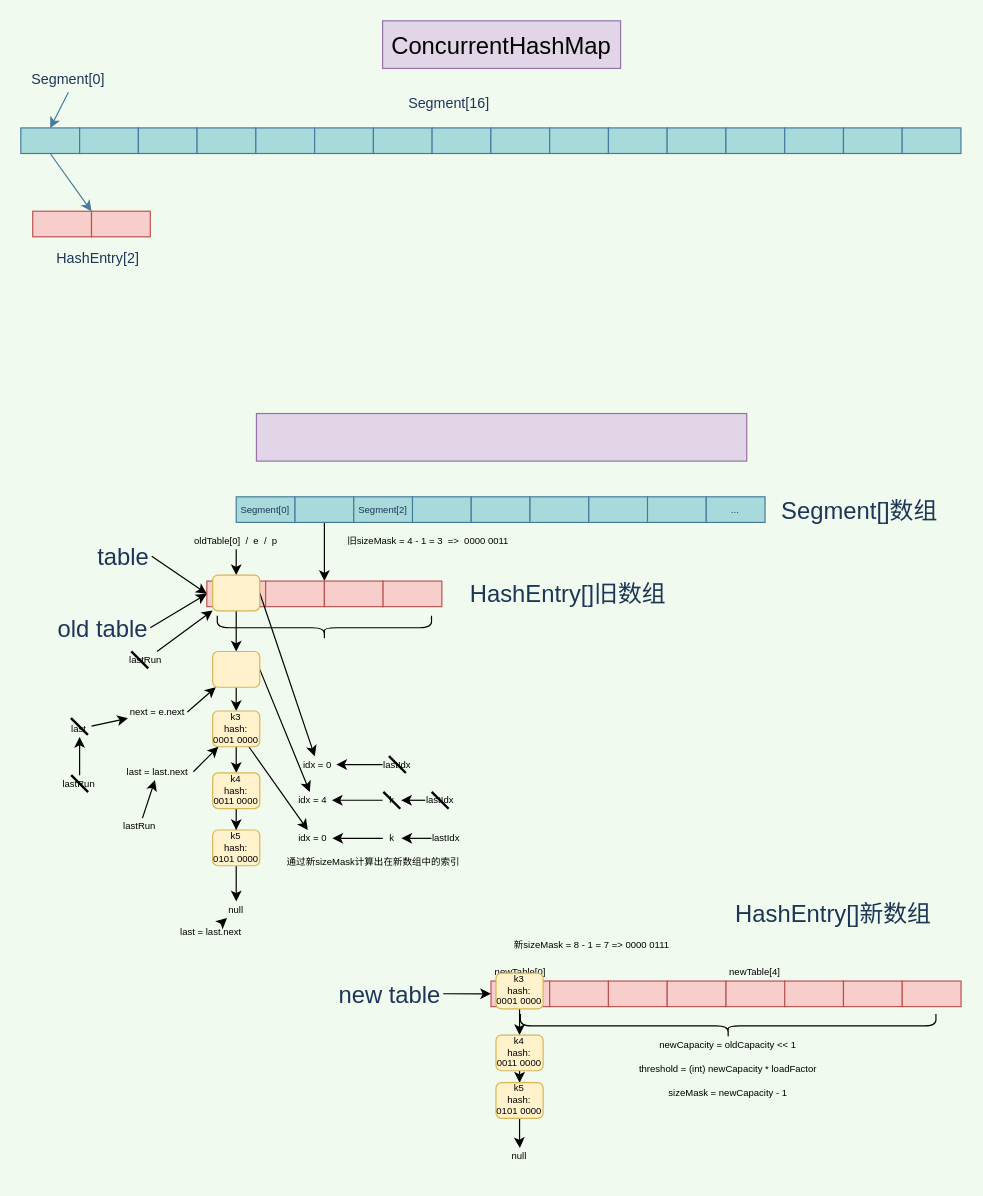
Some shapes in this 983 by 1196 pixel diagram are drawn without their labels. The shapes that lost their labels are listed below. From the top down, each one's box as (x1, y1, x2, y2) in pixels, then its label:
(255, 412, 747, 461): ConcurrentHashMap 1.7 rehash() 方法解析
(294, 496, 354, 522): Segment[1]
(211, 574, 260, 611): k1 hash: 0100 0000
(216, 615, 431, 640): oldCapacity
(211, 650, 260, 687): k2 hash: 0010 0100
